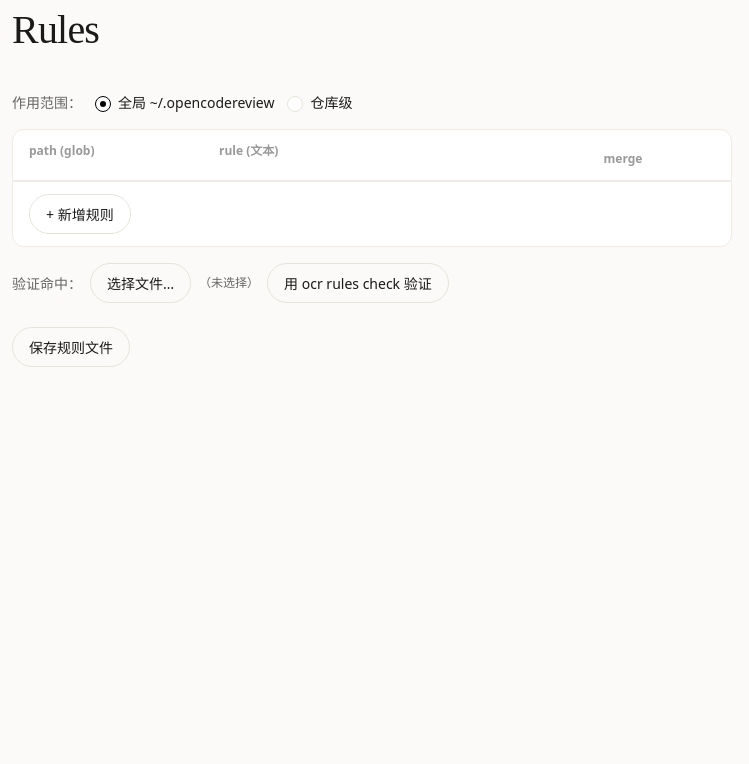
Scenario: RulesTab 验证命中 › 验证失败时经 Toast 展示中文错误
The width and height of the screenshot is (749, 764).
Click the button "选择文件…" at (141, 283), box [90,263,191,303]
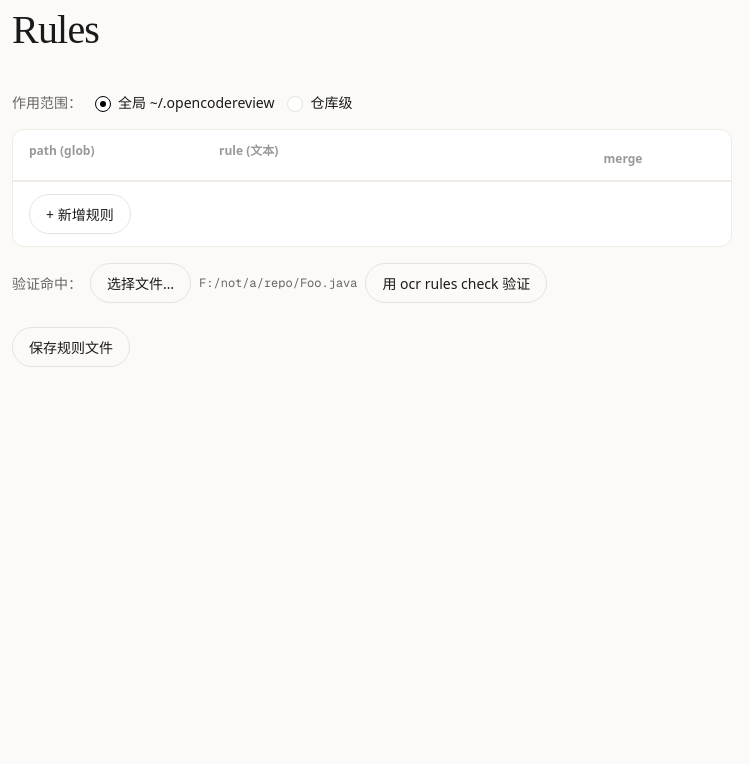
Now the text "F:/not/a/repo/Foo.java" is shown, box [199,274,358,292]
Click the button "用 ocr rules check 验证" at (456, 283), box [366,263,547,303]
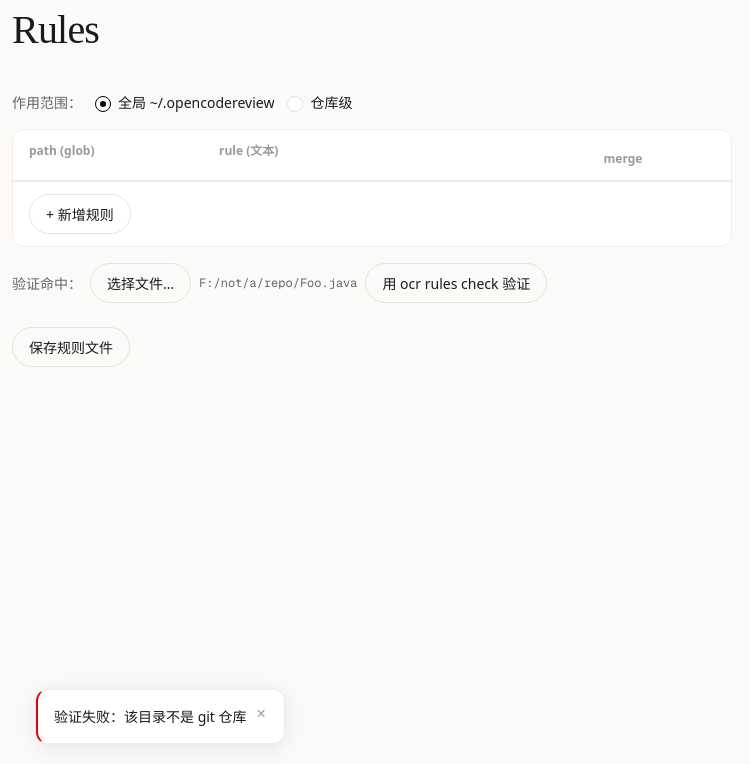
Now the text "验证失败：该目录不是 git 仓库" is shown, box [54,706,247,727]
